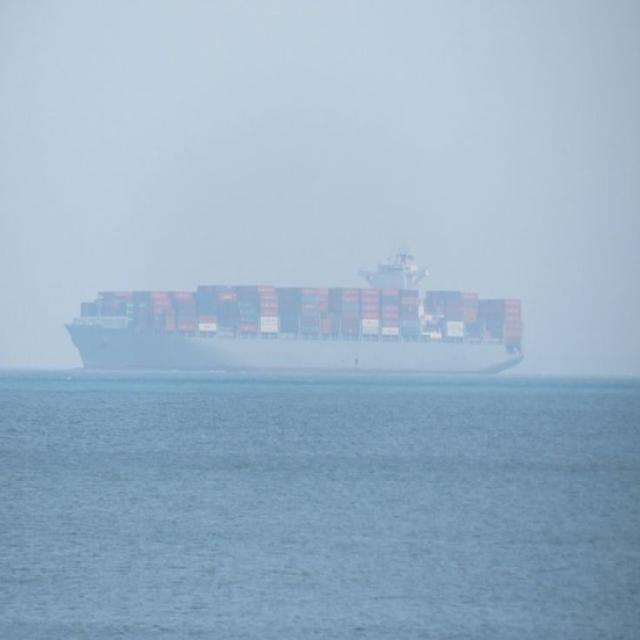cargoship: (59, 247, 524, 377)
